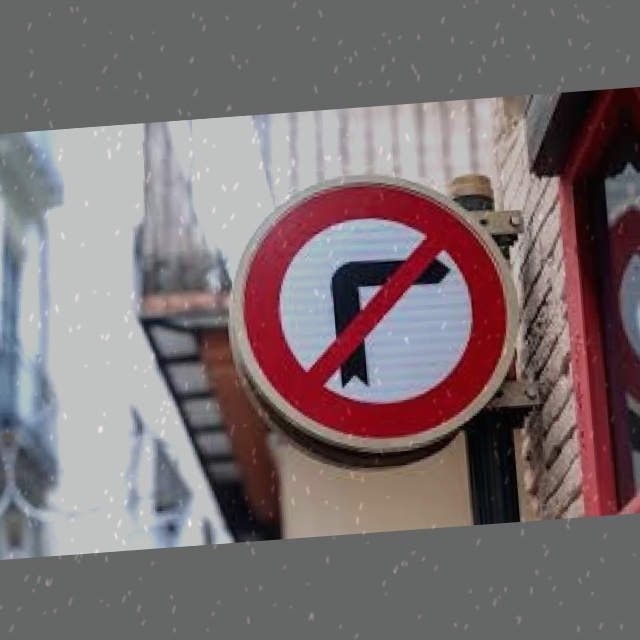Right_Turn_Prohibited: (225, 167, 522, 474)
